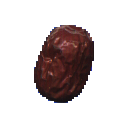gd: (23, 12, 101, 116)
